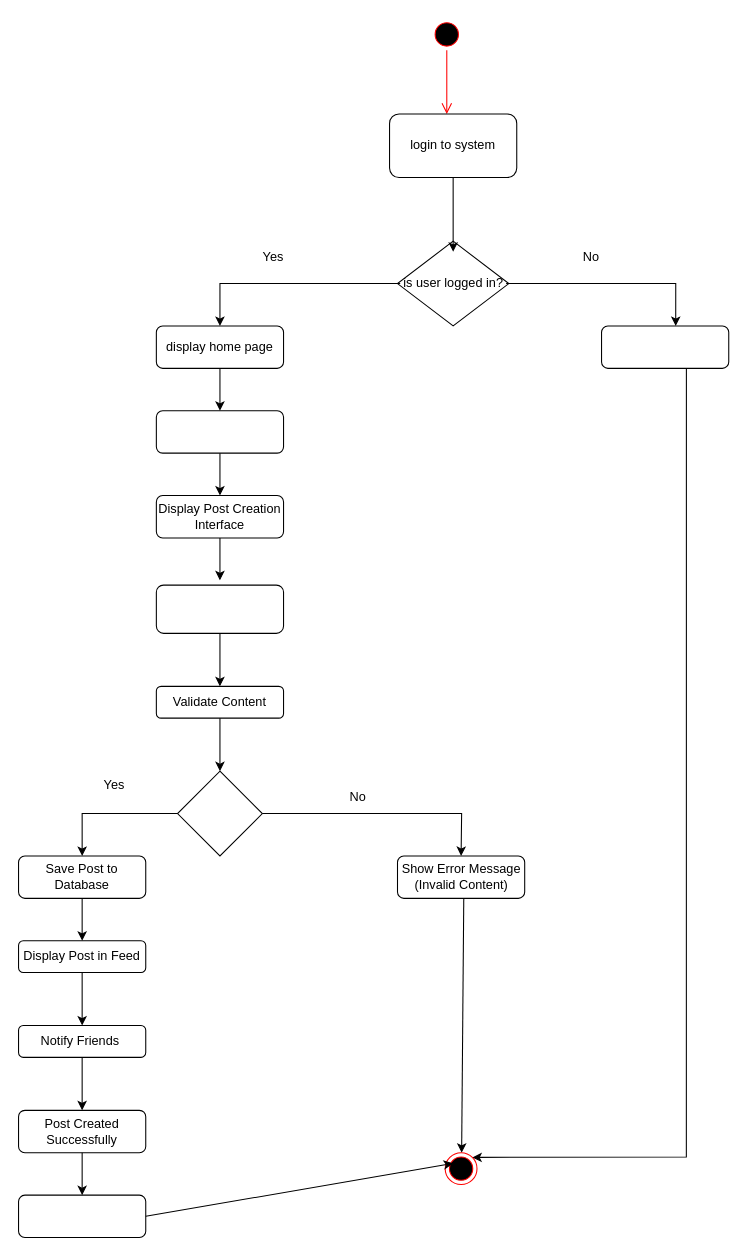
The diagram is 747 pixels wide and 1256 high, and some of its shapes have lost their labels. The centre of each missing label's shape, as x and y in pixels:
Is content valid?: (219,813)
Return to Home Page: (81,1216)
show login error: (664,346)
User clicks "Create Post": (219,431)
User enters content (text/image): (219,608)
